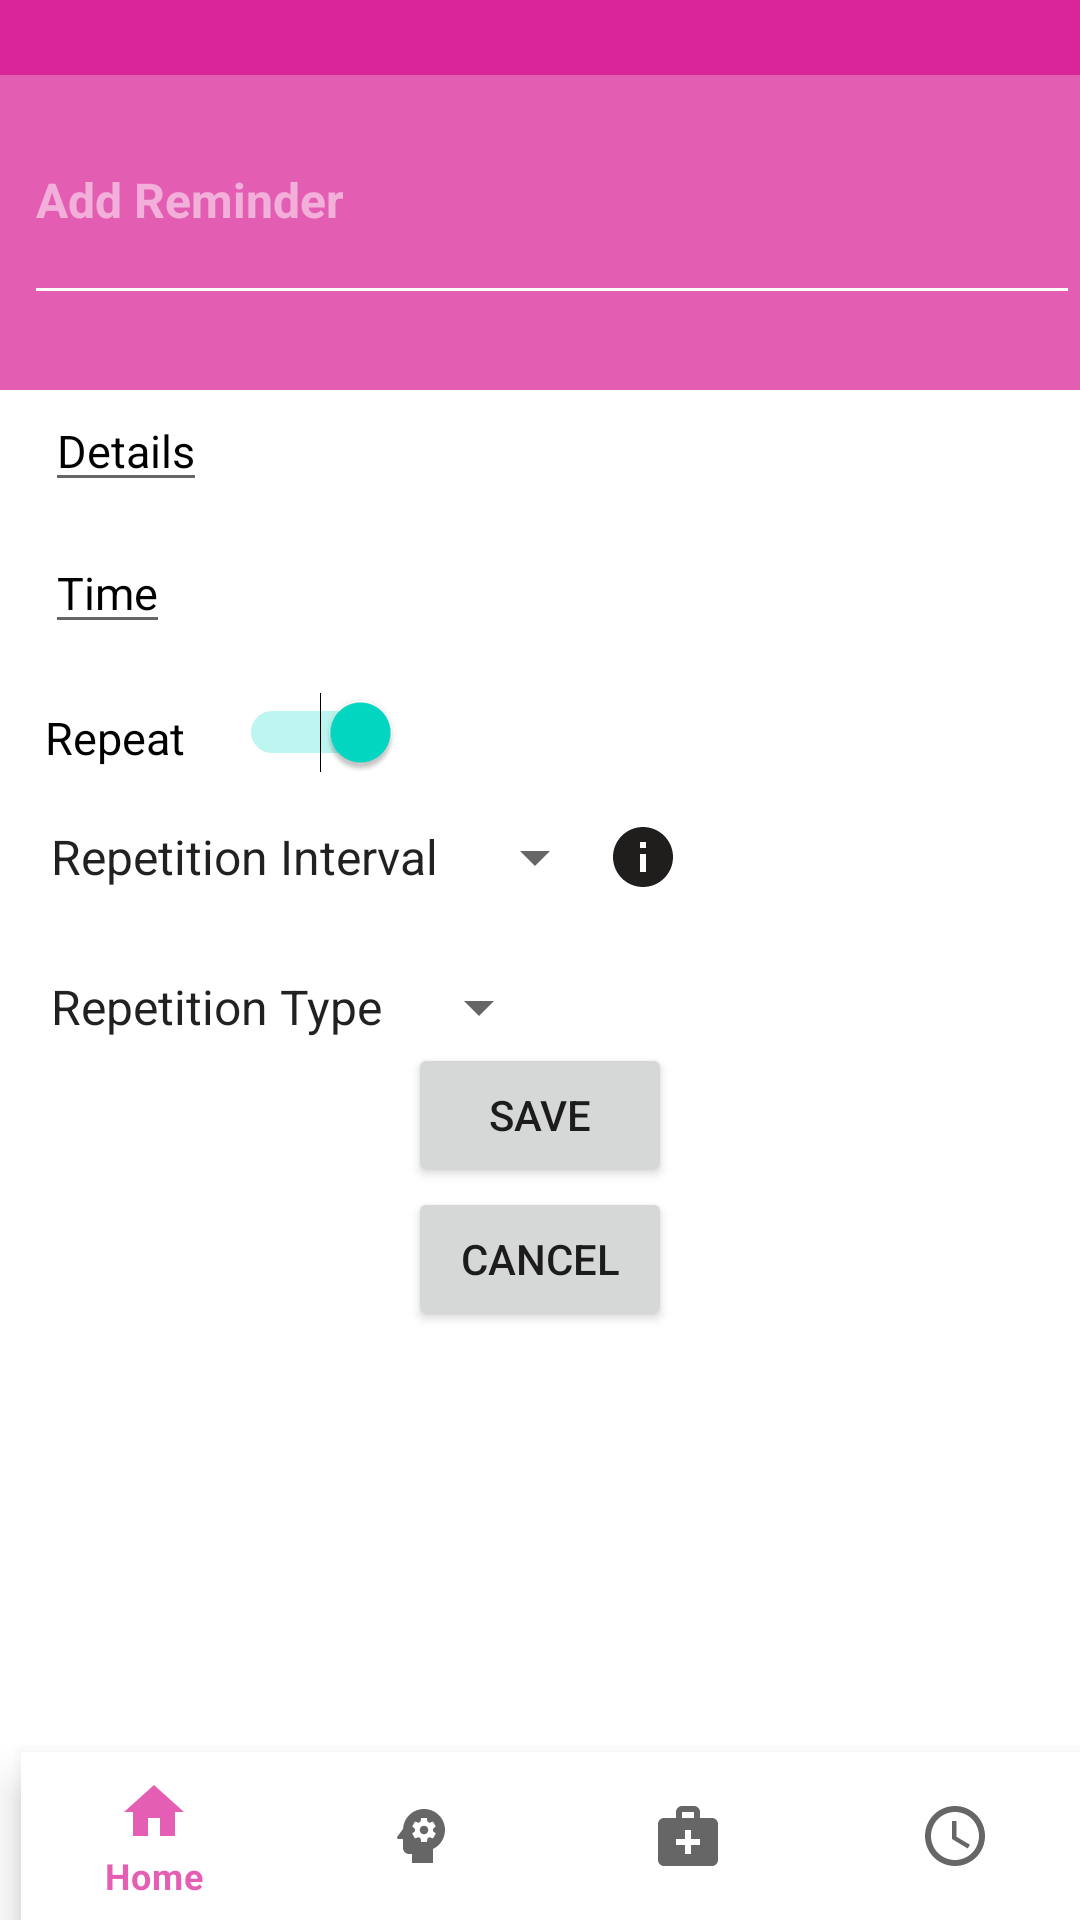

Icons on this 1080 x 1920 Android screen, each with its box as (x1, y1, x2, y2):
info: (613, 827, 673, 887)
